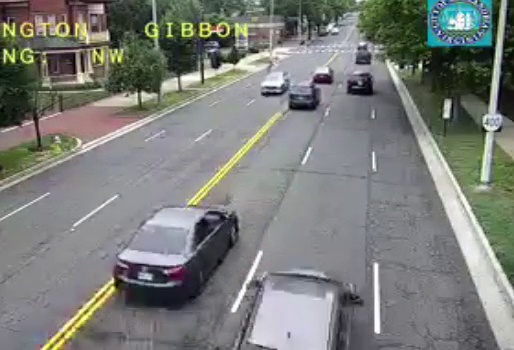car: (115, 207, 238, 289), (232, 273, 343, 350), (287, 84, 320, 109), (347, 73, 371, 94), (314, 67, 332, 83)
